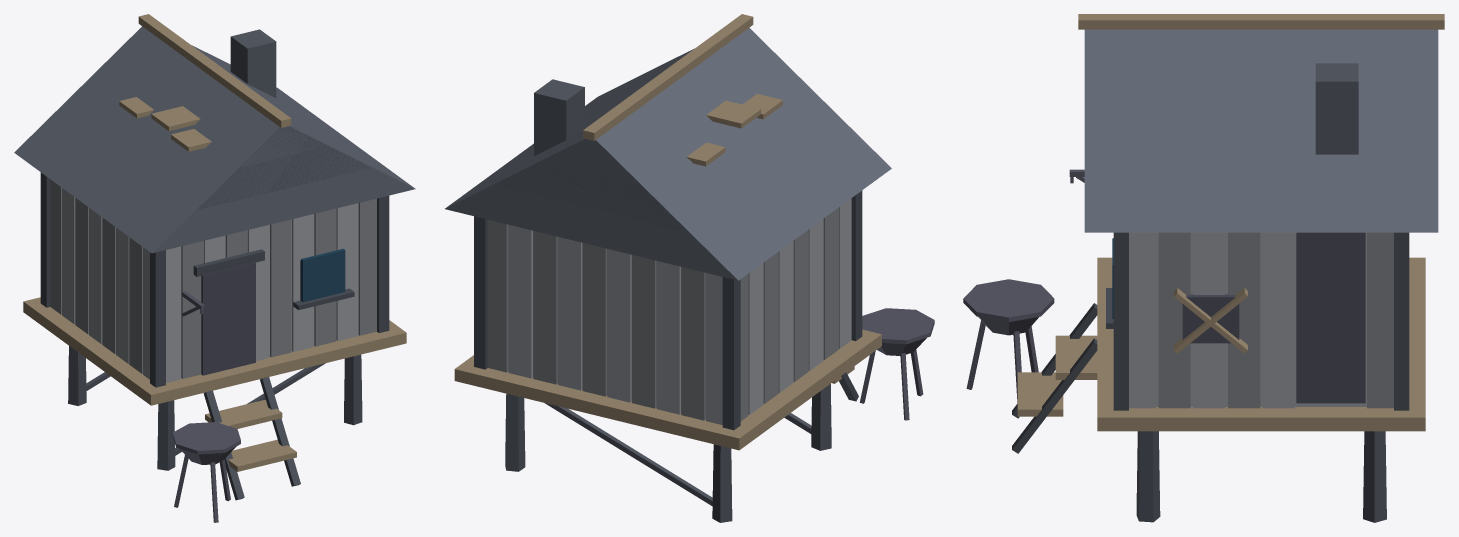
The model's file is house_wren.glb.
The picture shows the model from 3 angles, left to right: view 1: azimuth 30°, elevation 25°; view 2: azimuth 150°, elevation 25°; view 3: azimuth 270°, elevation 25°; orthographic projection. The views are drawn at different scales.
Parts seen in each view (by area): view 1: slate_d10, silverfog_d38, silverfog_d25, driftwood_d25, slate_d35, slate_d25, ink_l20, slate_d30, ink_l25, tide_d45; view 2: slate_d10, silverfog_d25, silverfog_d38, driftwood_d25, slate_d35, slate_d30, slate_d25, ink_l25; view 3: slate_d10, driftwood_d25, silverfog_d25, silverfog_d38, ink_l20, slate_d35, ink_l25, slate_d30, slate_d25.
Part boxes in pixels (left/top/right/bottom): slate_d10: left=14, top=26, right=415, bottom=253; silverfog_d38: left=50, top=179, right=376, bottom=378; silverfog_d25: left=62, top=188, right=358, bottom=382; driftwood_d25: left=23, top=14, right=406, bottom=471; slate_d35: left=40, top=172, right=389, bottom=500; slate_d25: left=197, top=29, right=370, bottom=210; ink_l20: left=201, top=260, right=301, bottom=375; slate_d30: left=68, top=346, right=362, bottom=470; ink_l25: left=172, top=291, right=240, bottom=522; tide_d45: left=301, top=248, right=345, bottom=302; slate_d10: left=445, top=27, right=891, bottom=280; silverfog_d25: left=508, top=198, right=851, bottom=424; silverfog_d38: left=487, top=207, right=838, bottom=420; driftwood_d25: left=454, top=14, right=881, bottom=450; slate_d35: left=474, top=190, right=862, bottom=430; slate_d30: left=505, top=383, right=831, bottom=522; slate_d25: left=496, top=79, right=684, bottom=230; ink_l25: left=859, top=308, right=934, bottom=420; slate_d10: left=1084, top=29, right=1438, bottom=232; driftwood_d25: left=1017, top=14, right=1444, bottom=431; silverfog_d25: left=1129, top=232, right=1366, bottom=408; silverfog_d38: left=1158, top=232, right=1393, bottom=408; ink_l20: left=1182, top=232, right=1365, bottom=403; slate_d35: left=1012, top=232, right=1409, bottom=453; ink_l25: left=963, top=169, right=1084, bottom=403; slate_d30: left=1136, top=431, right=1386, bottom=522; slate_d25: left=1315, top=63, right=1358, bottom=154.
Size of the model in its own units: 3.16 by 3.88 by 3.81.
